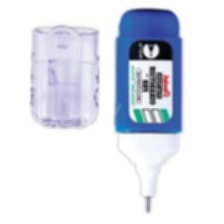correction_fluid: (111, 5, 185, 217)
